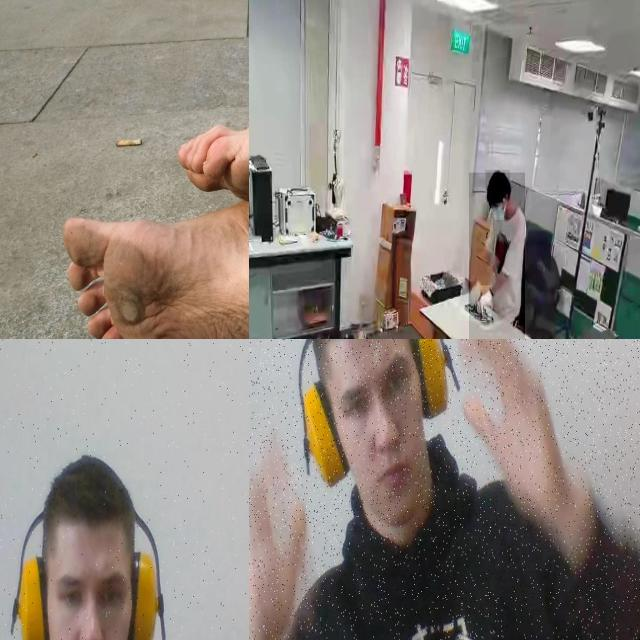Barefoots: (62, 209, 249, 339), (177, 17, 249, 202)
Ear-protection: (12, 449, 170, 640), (294, 354, 362, 499), (395, 339, 468, 428)
No_Glasses: (53, 562, 130, 623)
face_mask: (494, 198, 506, 220)
hand_glove: (468, 282, 481, 314), (482, 285, 492, 321)
head_nohelmet: (486, 170, 510, 191)
person: (468, 172, 525, 339)
